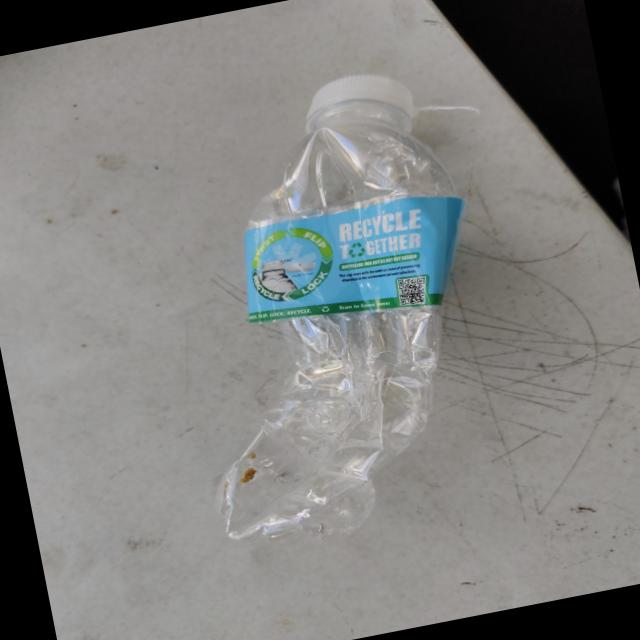Bottle: (215, 75, 463, 540)
